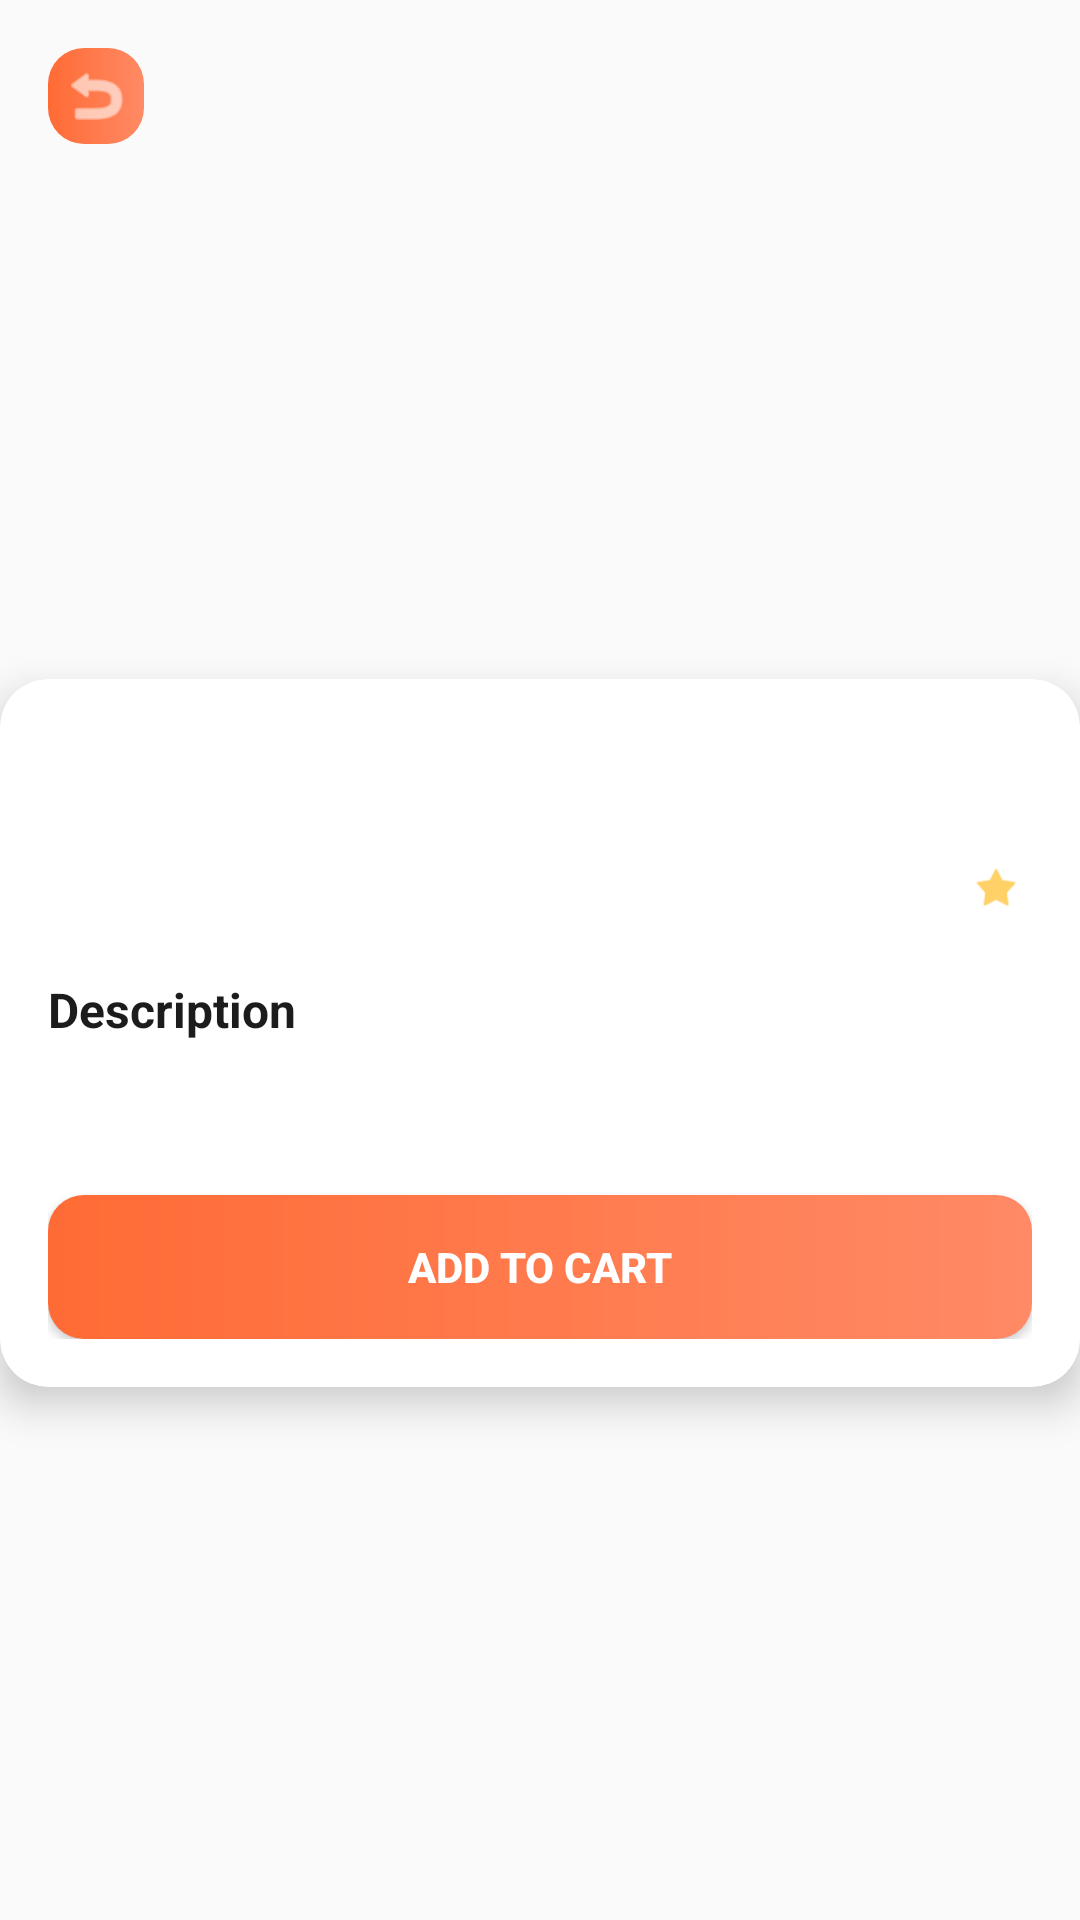

Where to tap for icons on this 1080w x 1920h app screen, as (x,y):
revert: (96,96)
star on: (996,887)
